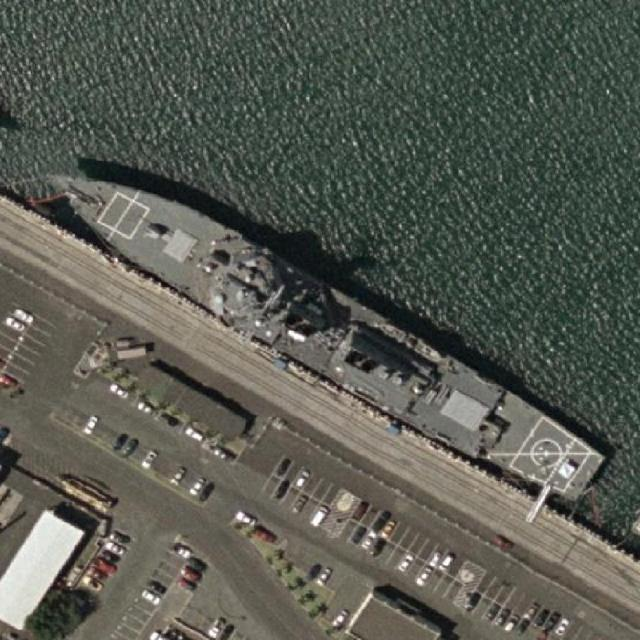Destroyer: (25, 133, 610, 515)
